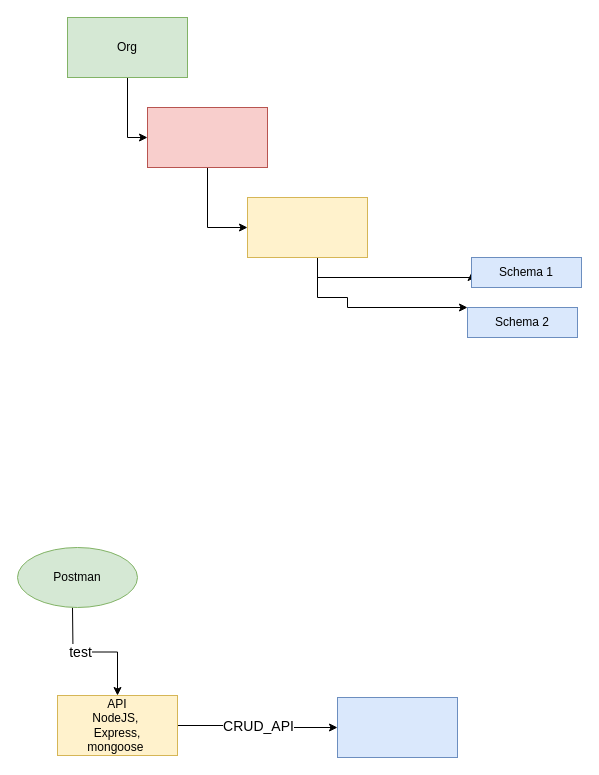
Image size: 599x775. Some labels were removed from this diagram. The shapes that lost their labels are listed below. From the top down, each one's centre as x and y in pixels, then its label:
At pixel 207 137: "Cluster".
At pixel 307 227: "Collection".
At pixel 397 727: "MongoDB".
